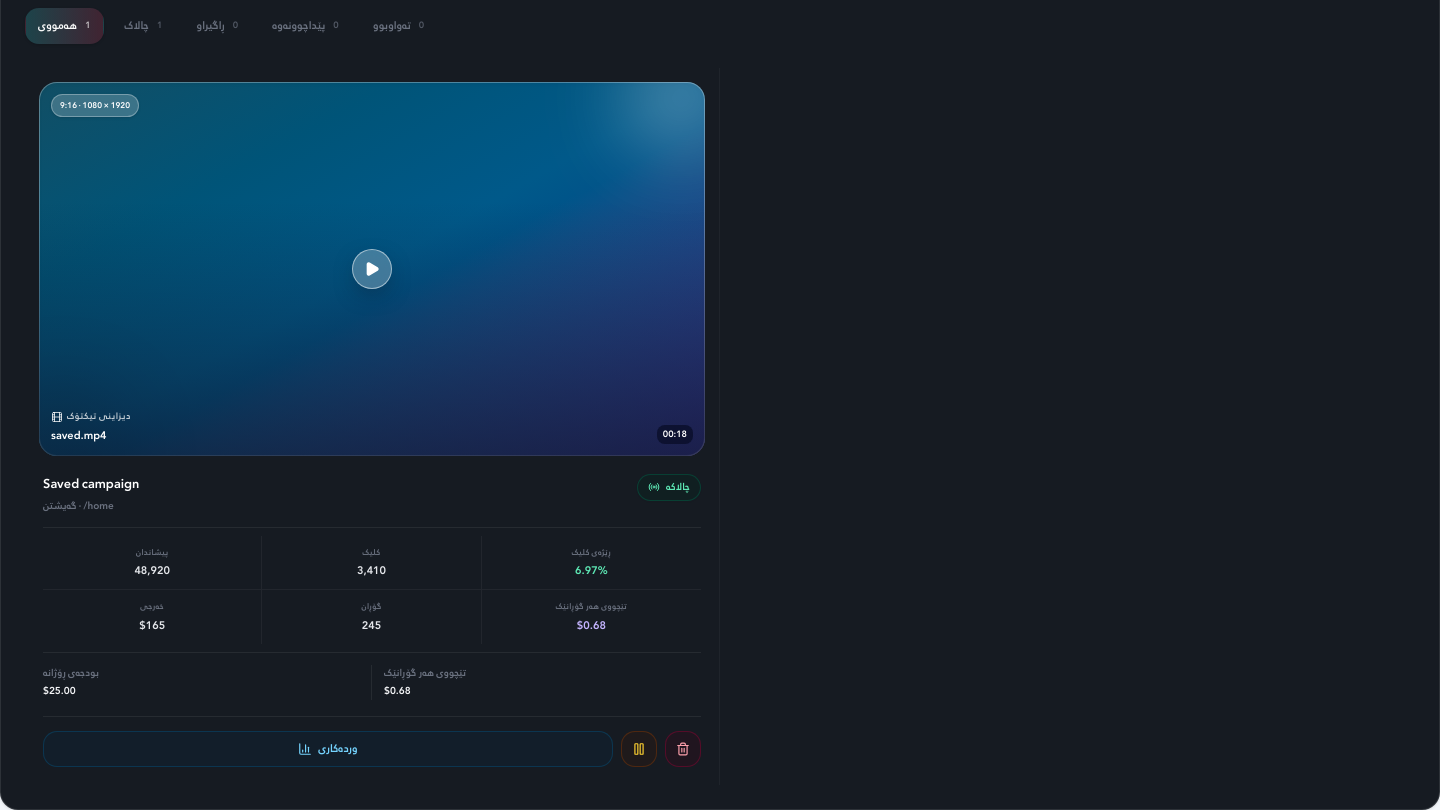
it: PlatformCampaignsPage › opens the redesigned campaign analytics details
(page scrolled)
Click the button "وردەکاری" at {"x": 328, "y": 749}, box [43,731,613,767]
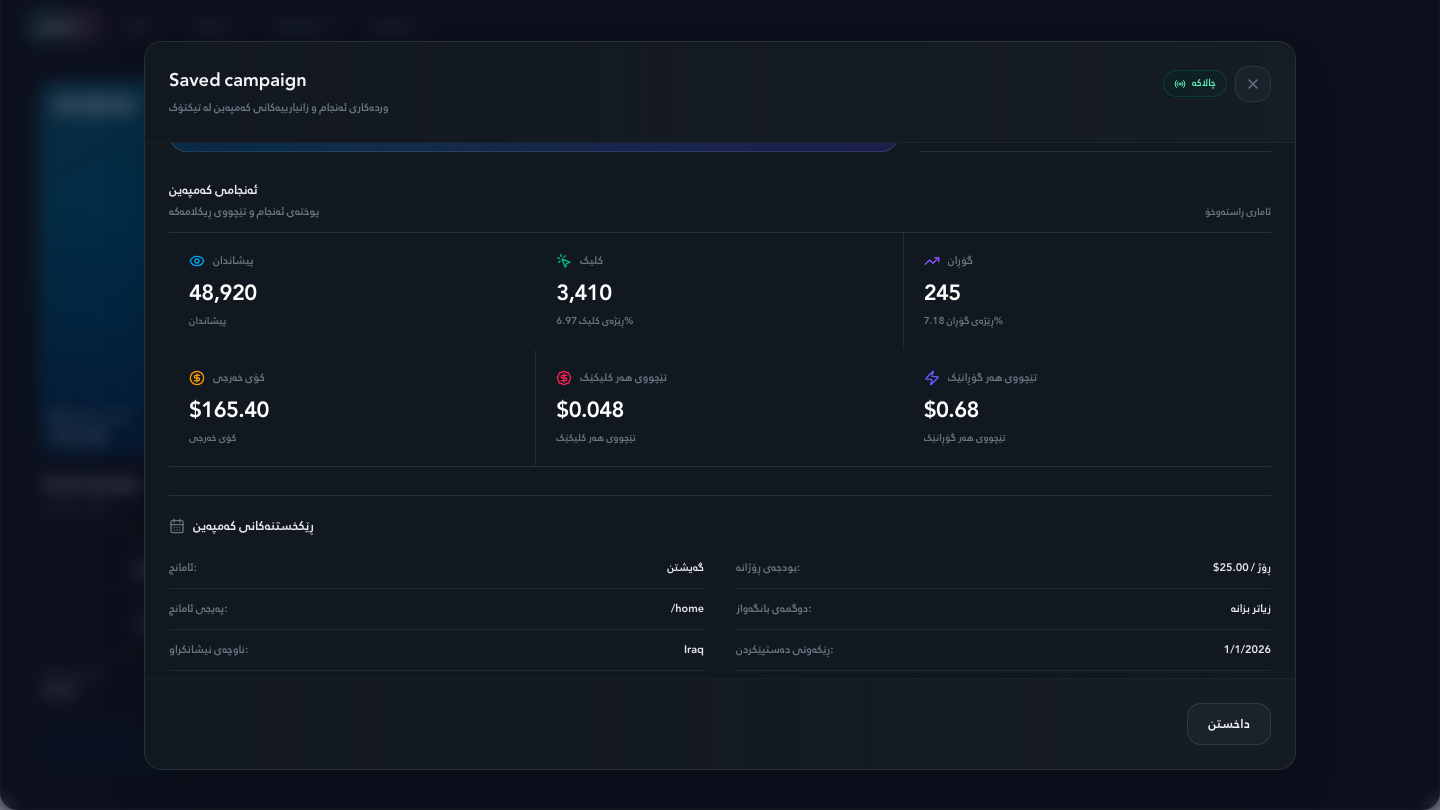
Now the dialog "Saved campaign" is shown
Now the heading "ئەنجامی کەمپەین" is shown, box [169,179,258,201]
Now the text "ڕێژەی گۆڕان 7.18%" is shown, box [924,312,1003,330]
